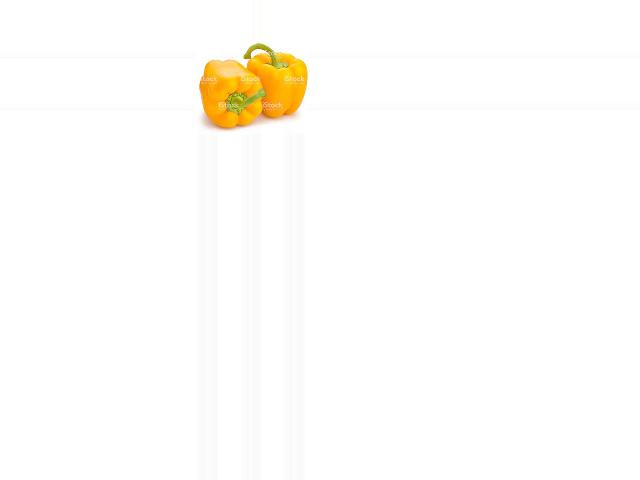bell_pepper: (240, 46, 308, 118)
